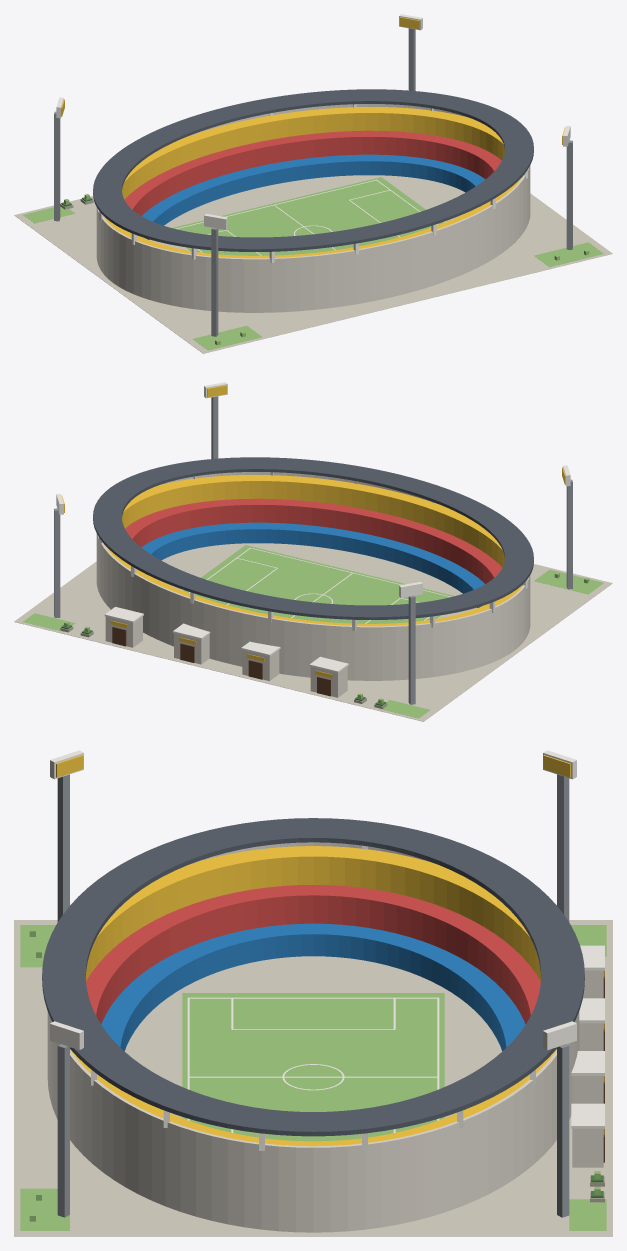
The model's file is stadium.glb.
3 renders of one model, top to bottom at view 1: azimuth 30°, elevation 25°; view 2: azimuth 150°, elevation 25°; view 3: azimuth 270°, elevation 25°, orthographic. The views are drawn at different scales.
Visible parts, largest first — view 1: outer_wall, roof_ring, ground, upper_tier, middle_tier, pitch, lower_tier, field_level, floodlight_mast (×4), lawn (×2); view 2: outer_wall, roof_ring, ground, upper_tier, middle_tier, pitch, lower_tier, field_level, floodlight_mast (×4), entrance (×4), lawn (×2); view 3: outer_wall, roof_ring, pitch, ground, upper_tier, middle_tier, lower_tier, field_level, floodlight_mast (×4), lawn (×4), entrance (×3), entrance_roof (×3) (+1 smaller).
Boxes of the visible parts, left/top/right/bottom form: outer_wall: left=96, top=104, right=530, bottom=312; roof_ring: left=93, top=89, right=533, bottom=251; ground: left=14, top=193, right=612, bottom=353; upper_tier: left=104, top=107, right=522, bottom=258; middle_tier: left=124, top=130, right=501, bottom=215; pitch: left=172, top=177, right=443, bottom=255; lower_tier: left=142, top=154, right=485, bottom=239; field_level: left=150, top=175, right=465, bottom=250; floodlight_mast (×4): left=54, top=28, right=572, bottom=336; lawn (×2): left=193, top=242, right=603, bottom=350; outer_wall: left=96, top=472, right=530, bottom=680; roof_ring: left=93, top=457, right=533, bottom=619; ground: left=14, top=561, right=612, bottom=721; upper_tier: left=104, top=475, right=522, bottom=626; middle_tier: left=125, top=498, right=502, bottom=583; pitch: left=183, top=545, right=454, bottom=623; lower_tier: left=141, top=522, right=484, bottom=607; field_level: left=161, top=543, right=476, bottom=618; floodlight_mast (×4): left=54, top=396, right=572, bottom=704; entrance (×4): left=105, top=616, right=347, bottom=697; lawn (×2): left=378, top=569, right=603, bottom=718; outer_wall: left=47, top=842, right=579, bottom=1232; roof_ring: left=42, top=818, right=584, bottom=1136; pitch: left=182, top=993, right=444, bottom=1141; ground: left=14, top=920, right=612, bottom=1236; upper_tier: left=70, top=846, right=556, bottom=1146; middle_tier: left=86, top=885, right=540, bottom=1023; lower_tier: left=101, top=923, right=525, bottom=1051; field_level: left=124, top=956, right=502, bottom=1117; floodlight_mast (×4): left=57, top=774, right=569, bottom=1217; lawn (×4): left=20, top=925, right=606, bottom=1230; entrance (×3): left=572, top=1023, right=603, bottom=1167; entrance_roof (×3): left=571, top=998, right=604, bottom=1128.
Bounding box in the file's own units: 120 × 33 × 96.
